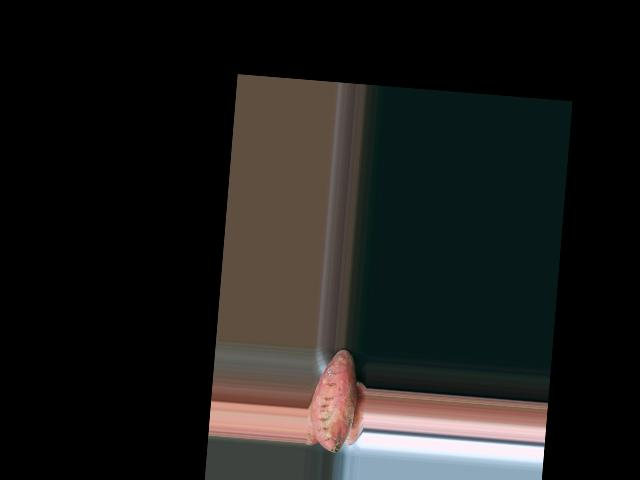sweet_potato: (311, 348, 355, 453)
